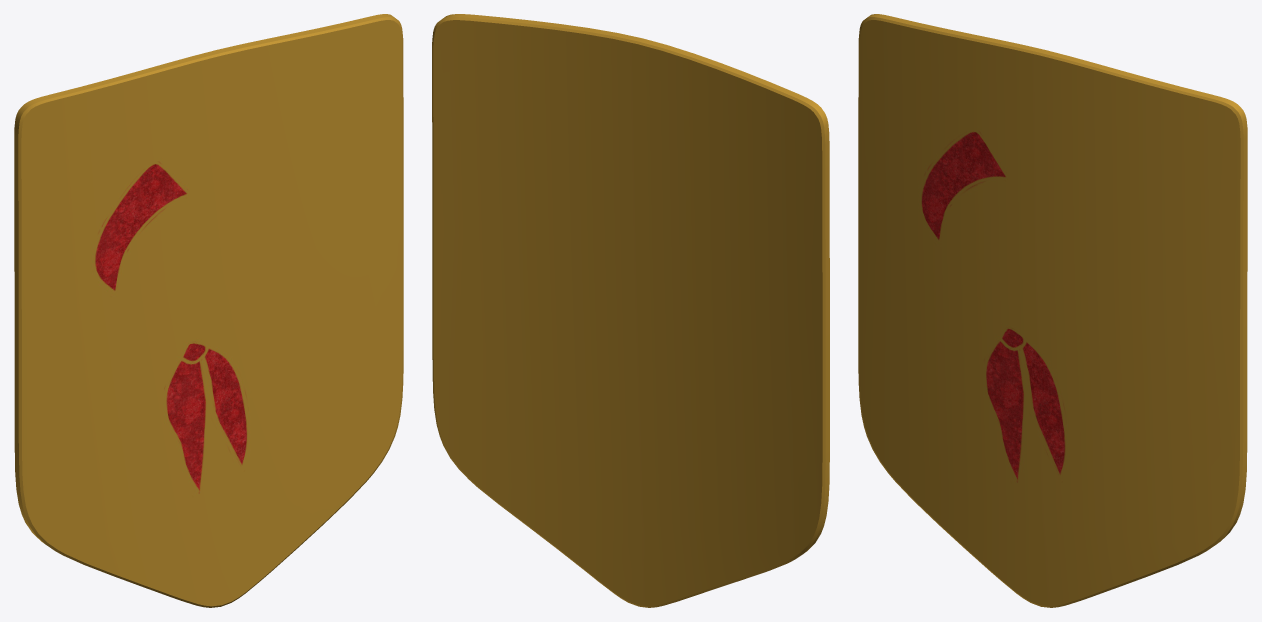
File: pioneer.gltf
The picture shows the model from 3 angles, left to right: view 1: azimuth 30°, elevation 25°; view 2: azimuth 150°, elevation 25°; view 3: azimuth 330°, elevation 25°; orthographic projection. The views are drawn at different scales.
Visible parts, largest first — view 1: shape; view 2: shape; view 3: shape.
Boxes of the visible parts, left/top/right/bottom form: shape: left=14, top=14, right=403, bottom=607; shape: left=432, top=14, right=829, bottom=607; shape: left=858, top=14, right=1247, bottom=607.
Size of the model in its own units: 0.0821 by 0.1128 by 0.00604.
Materials: 1 (1 with a texture image).
